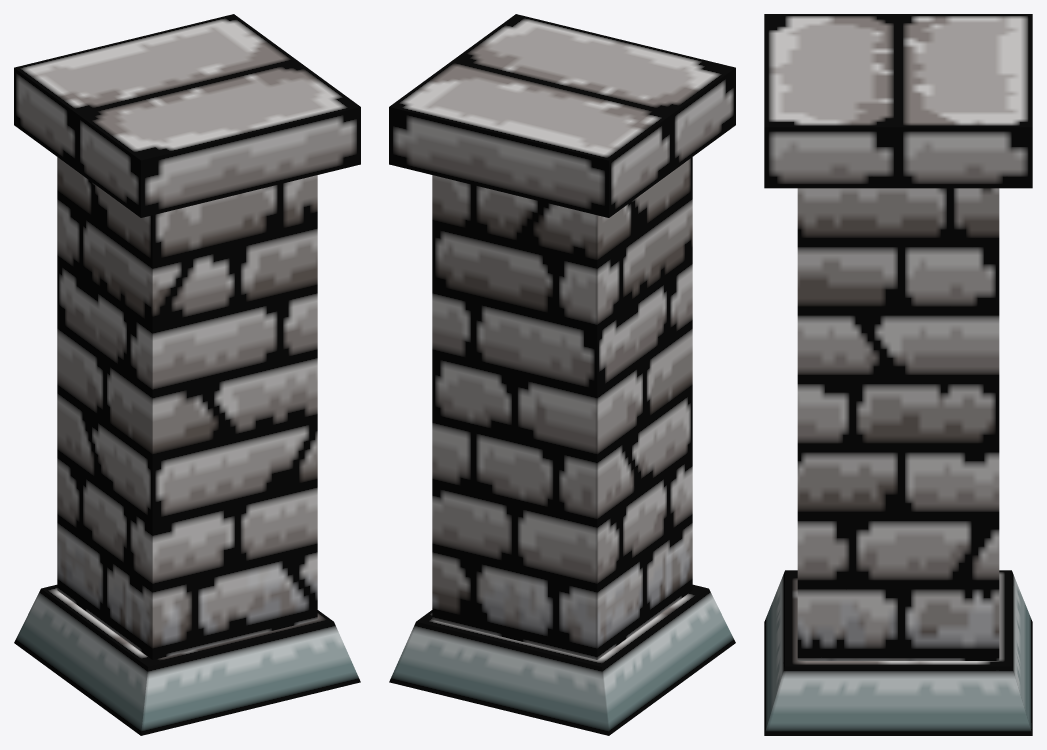
File: deco_winter_wallEndTall.FBX
3 renders of one model, left to right at view 1: azimuth 30°, elevation 25°; view 2: azimuth 150°, elevation 25°; view 3: azimuth 270°, elevation 25°, orthographic. The views are drawn at different scales.
Visible parts, largest first — view 1: deco_winter_wallEndTall; view 2: deco_winter_wallEndTall; view 3: deco_winter_wallEndTall.
Part boxes in pixels (box(x1,y1,x2,y2)): deco_winter_wallEndTall: box(14, 14, 360, 735); deco_winter_wallEndTall: box(389, 14, 735, 735); deco_winter_wallEndTall: box(764, 14, 1032, 735).
Bounding box in the file's own units: 1 × 2.5 × 1.
1 material, 1 textured.
